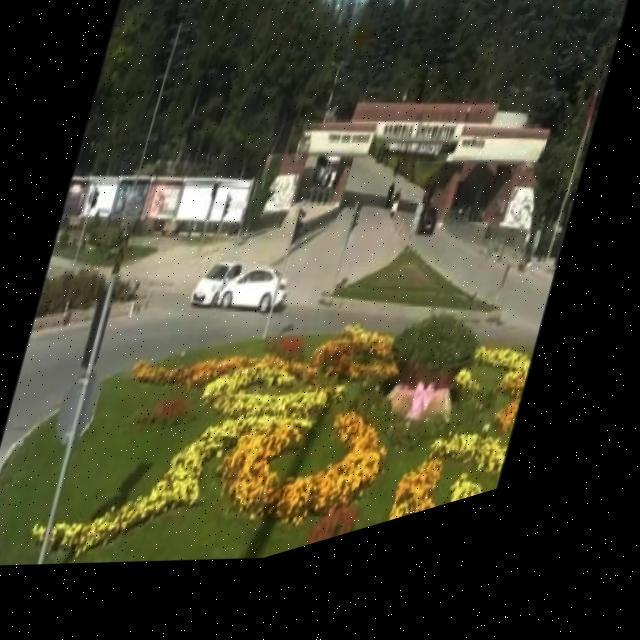Car Accident Detector - v4 Generation1 Exported: (186, 247, 298, 352)
